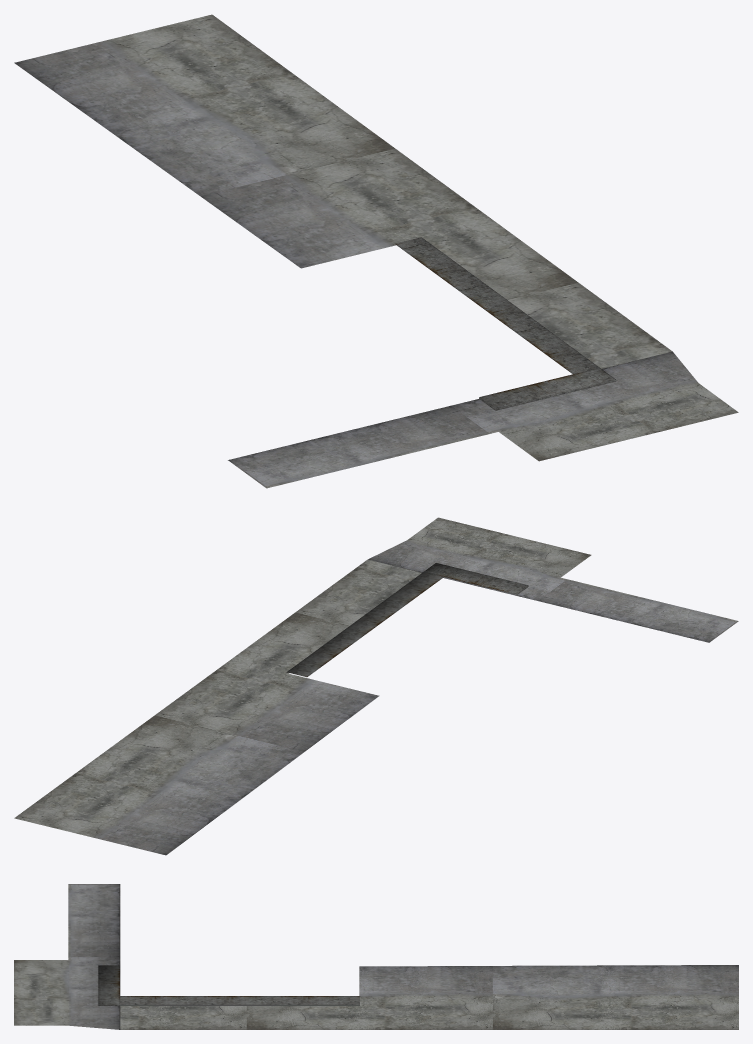
File: SpateleBlocului.fbx
The picture shows the model from 3 angles, top to bottom: view 1: azimuth 30°, elevation 25°; view 2: azimuth 150°, elevation 25°; view 3: azimuth 270°, elevation 25°; orthographic projection. The views are drawn at different scales.
Parts seen in each view (by area): view 1: SpateleBlocului; view 2: SpateleBlocului; view 3: SpateleBlocului.
Boxes of the visible parts, left/top/right/bottom form: SpateleBlocului: left=14, top=14, right=738, bottom=488; SpateleBlocului: left=14, top=517, right=738, bottom=855; SpateleBlocului: left=14, top=884, right=738, bottom=1029.
Bounding box in the file's own units: 21.38 × 0.09 × 44.91.
